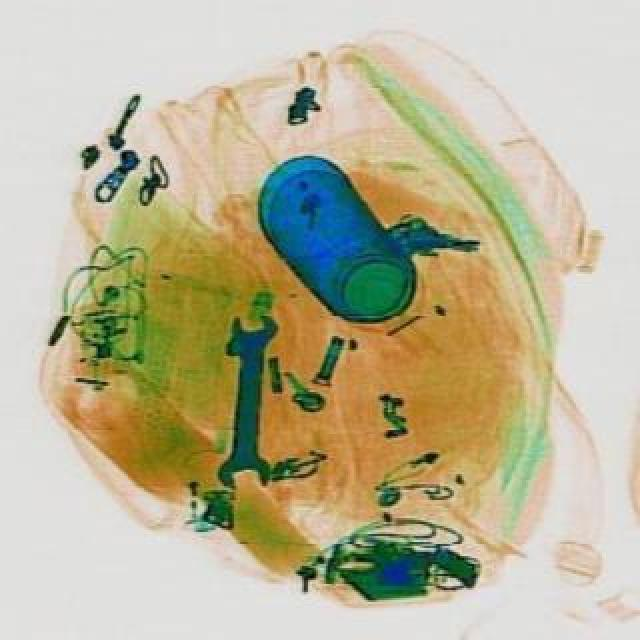scissors: (220, 312, 284, 488)
